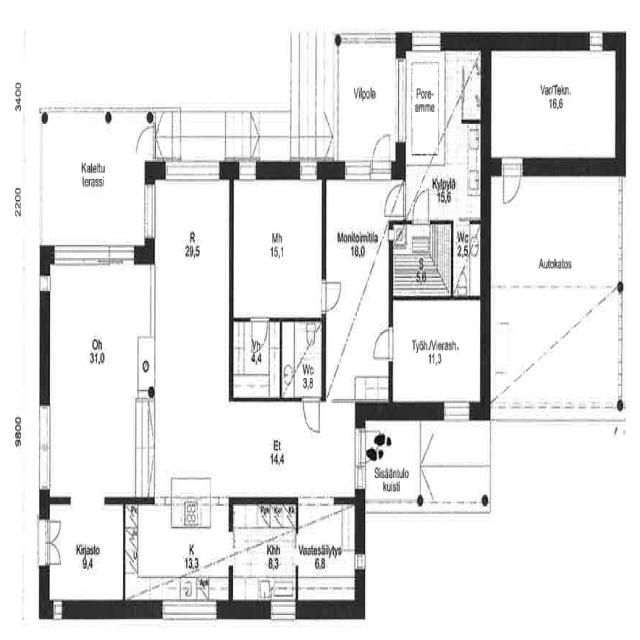door: (40, 514, 65, 572), (369, 129, 395, 179), (368, 324, 396, 366), (501, 155, 523, 208), (301, 393, 323, 438), (320, 274, 344, 314), (249, 314, 270, 358), (410, 186, 432, 224), (132, 125, 154, 161)
window: (48, 240, 138, 271), (610, 170, 630, 288), (392, 54, 412, 153), (35, 398, 54, 500), (165, 156, 225, 184), (156, 599, 217, 625), (438, 392, 478, 425), (142, 180, 159, 245), (352, 425, 367, 493), (340, 154, 373, 184), (409, 28, 445, 54), (296, 489, 337, 510), (295, 156, 321, 185), (585, 28, 607, 57), (38, 268, 53, 304), (352, 550, 370, 578), (50, 598, 66, 622)
zone: (45, 256, 156, 504), (151, 168, 232, 494), (324, 171, 390, 412), (486, 47, 618, 166), (399, 43, 484, 222), (230, 172, 325, 321), (125, 506, 232, 606), (392, 297, 482, 409), (45, 498, 127, 608), (231, 500, 299, 598), (296, 498, 356, 607), (391, 222, 452, 297), (230, 320, 282, 401), (280, 320, 322, 400)
